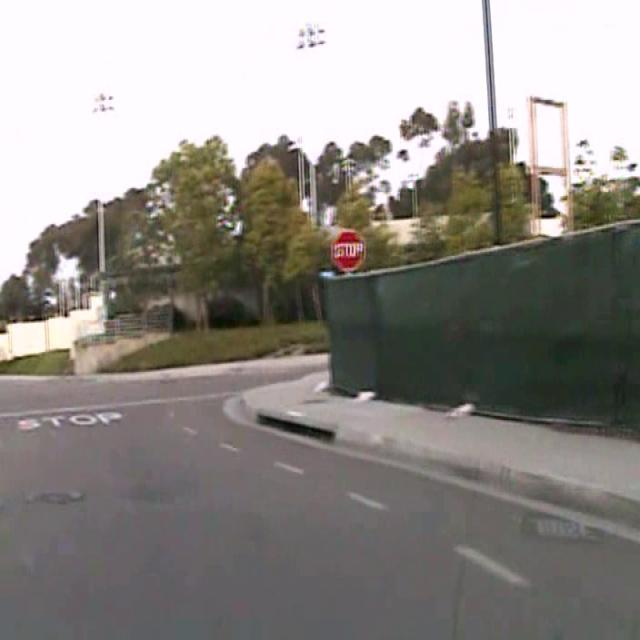stop: (332, 227, 365, 272)
